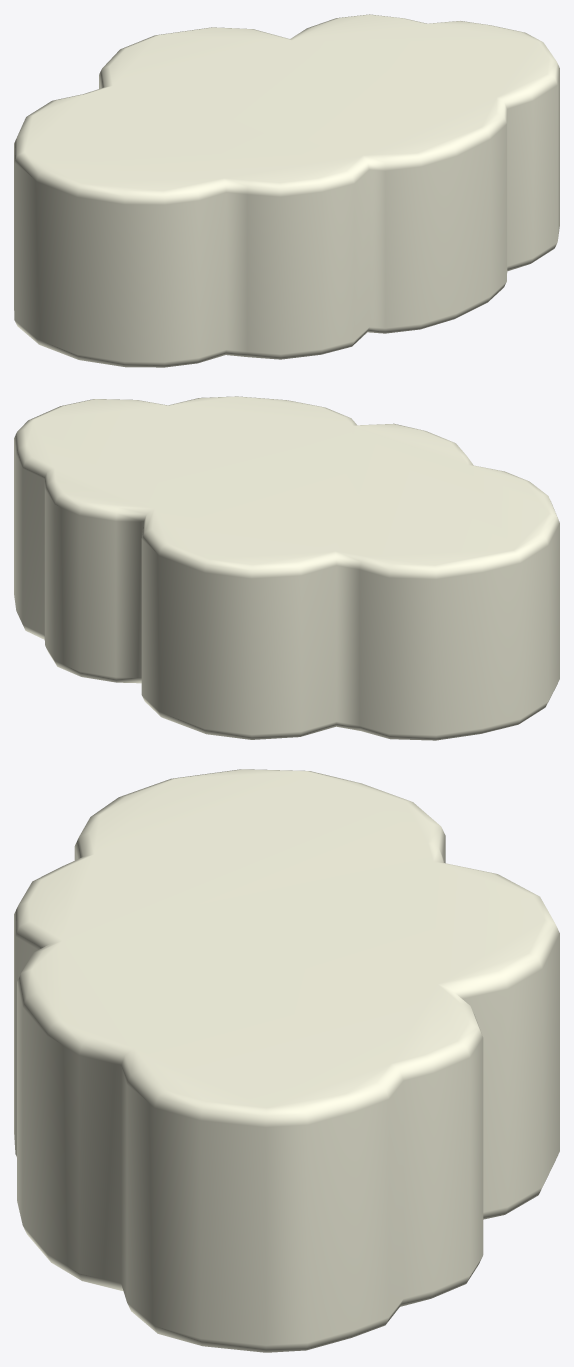
File: Store_9_Pouf_Cloud_1.glb
3 renders of one model, top to bottom at view 1: azimuth 30°, elevation 25°; view 2: azimuth 150°, elevation 25°; view 3: azimuth 270°, elevation 25°, orthographic. The views are drawn at different scales.
Parts seen in each view (by area): view 1: Store_9_Pouf_Cloud_1; view 2: Store_9_Pouf_Cloud_1; view 3: Store_9_Pouf_Cloud_1.
Boxes of the visible parts, x1,y1,x2,y2 form: Store_9_Pouf_Cloud_1: [14, 14, 559, 367]; Store_9_Pouf_Cloud_1: [14, 396, 559, 740]; Store_9_Pouf_Cloud_1: [14, 769, 559, 1352].
Bounding box in the file's own units: 0.8509 × 0.2765 × 0.5599.
Materials: 1 (1 with a texture image).
